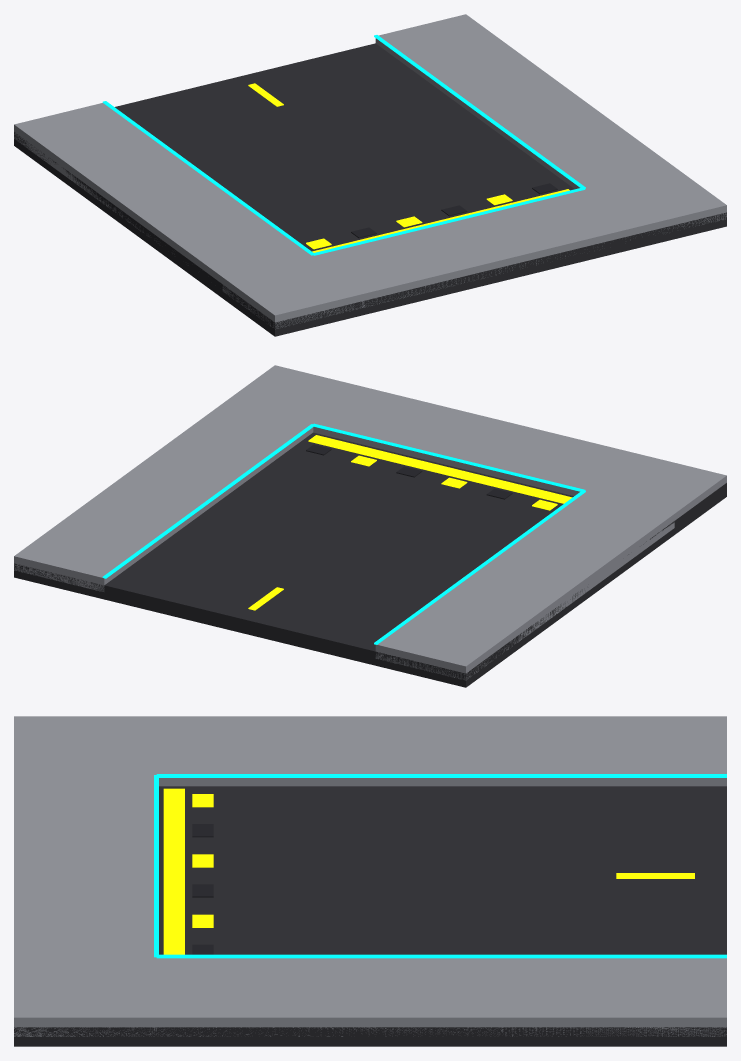
File: Tile_RoadDeadEnd.fbx
3 views of the same model, one above another, from view 1: azimuth 30°, elevation 25°; view 2: azimuth 150°, elevation 25°; view 3: azimuth 270°, elevation 25° (orthographic). The views are drawn at different scales.
Parts seen in each view (by area): view 1: Tile_RoadDeadEnd_Base, Tile_RoadDeadEnd_Walk0-1, Tile_RoadDeadEnd_Walk-10, Tile_RoadDeadEnd_Walk10, Tile_RoadDeadEnd_Walk-1-1, Tile_RoadDeadEnd_Walk1-1, Tile_RoadDeadEnd_Walk-11, Tile_RoadDeadEnd_Walk11, Tile_RoadDeadEnd_Curb0-101, Tile_RoadDeadEnd_Curb10-10, Tile_RoadDeadEnd_Curb-1010, Tile_RoadDeadEnd_DeadEndBar; view 2: Tile_RoadDeadEnd_Base, Tile_RoadDeadEnd_Walk-10, Tile_RoadDeadEnd_Walk0-1, Tile_RoadDeadEnd_Walk10, Tile_RoadDeadEnd_Walk-11, Tile_RoadDeadEnd_Walk11, Tile_RoadDeadEnd_Walk-1-1, Tile_RoadDeadEnd_Walk1-1, Tile_RoadDeadEnd_DeadEndBar, Tile_RoadDeadEnd_Curb0-101, Tile_RoadDeadEnd_Curb10-10, Tile_RoadDeadEnd_Curb-1010; view 3: Tile_RoadDeadEnd_Base, Tile_RoadDeadEnd_Walk10, Tile_RoadDeadEnd_Walk-10, Tile_RoadDeadEnd_Walk0-1, Tile_RoadDeadEnd_Walk11, Tile_RoadDeadEnd_Walk1-1, Tile_RoadDeadEnd_Walk-11, Tile_RoadDeadEnd_Walk-1-1, Tile_RoadDeadEnd_DeadEndBar, Tile_RoadDeadEnd_Curb10-10, Tile_RoadDeadEnd_Curb-1010, Tile_RoadDeadEnd_Curb0-101 (+2 smaller).
Boxes of the visible parts, box(x1,y1,x2,y2) form: Tile_RoadDeadEnd_Base: box(14, 43, 726, 336); Tile_RoadDeadEnd_Walk0-1: box(314, 190, 636, 306); Tile_RoadDeadEnd_Walk-10: box(66, 141, 310, 283); Tile_RoadDeadEnd_Walk10: box(427, 52, 674, 189); Tile_RoadDeadEnd_Walk-1-1: box(222, 255, 365, 329); Tile_RoadDeadEnd_Walk1-1: box(585, 167, 726, 234); Tile_RoadDeadEnd_Walk-11: box(14, 103, 154, 176); Tile_RoadDeadEnd_Walk11: box(375, 14, 517, 80); Tile_RoadDeadEnd_Curb0-101: box(313, 187, 585, 255); Tile_RoadDeadEnd_Curb10-10: box(426, 73, 585, 188); Tile_RoadDeadEnd_Curb-1010: box(155, 139, 313, 255); Tile_RoadDeadEnd_DeadEndBar: box(312, 189, 569, 252); Tile_RoadDeadEnd_Base: box(14, 432, 726, 687); Tile_RoadDeadEnd_Walk-10: box(430, 492, 674, 641); Tile_RoadDeadEnd_Walk0-1: box(313, 387, 635, 495); Tile_RoadDeadEnd_Walk10: box(66, 403, 313, 546); Tile_RoadDeadEnd_Walk-11: box(375, 606, 518, 680); Tile_RoadDeadEnd_Walk11: box(14, 518, 156, 591); Tile_RoadDeadEnd_Walk-1-1: box(586, 453, 726, 520); Tile_RoadDeadEnd_Walk1-1: box(223, 365, 364, 424); Tile_RoadDeadEnd_DeadEndBar: box(308, 435, 572, 503); Tile_RoadDeadEnd_Curb0-101: box(312, 423, 585, 491); Tile_RoadDeadEnd_Curb10-10: box(155, 424, 313, 540); Tile_RoadDeadEnd_Curb-1010: box(426, 490, 585, 606); Tile_RoadDeadEnd_Base: box(14, 786, 726, 1046); Tile_RoadDeadEnd_Walk10: box(156, 958, 584, 1036); Tile_RoadDeadEnd_Walk-10: box(156, 716, 584, 786); Tile_RoadDeadEnd_Walk0-1: box(14, 776, 153, 957); Tile_RoadDeadEnd_Walk11: box(584, 958, 726, 1036); Tile_RoadDeadEnd_Walk1-1: box(14, 957, 156, 1036); Tile_RoadDeadEnd_Walk-11: box(584, 716, 726, 786); Tile_RoadDeadEnd_Walk-1-1: box(14, 716, 156, 776); Tile_RoadDeadEnd_DeadEndBar: box(163, 788, 184, 954); Tile_RoadDeadEnd_Curb10-10: box(156, 954, 584, 958); Tile_RoadDeadEnd_Curb-1010: box(156, 774, 584, 777); Tile_RoadDeadEnd_Curb0-101: box(154, 775, 158, 957).
Bounding box in the file's own units: 2 × 0.095 × 2.
